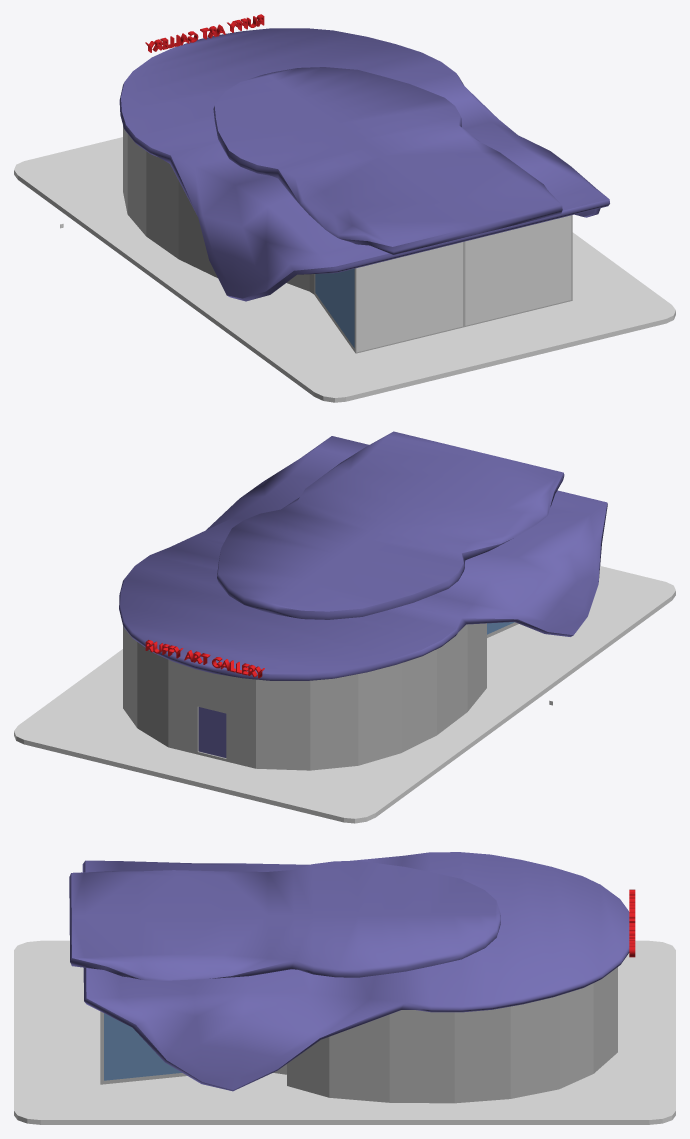
Rendered from Ruffy_art_gallery.fbx.
3 renders of one model, top to bottom at view 1: azimuth 30°, elevation 25°; view 2: azimuth 150°, elevation 25°; view 3: azimuth 270°, elevation 25°, orthographic. The views are drawn at different scales.
Parts seen in each view (by area): view 1: art_gallery.002, art_gallery.001, Plane, Art_gallery_outside, Text; view 2: art_gallery.002, art_gallery.001, Plane, Art_gallery_outside, Text; view 3: art_gallery.002, art_gallery.001, Plane, Art_gallery_outside, Text.
Part boxes in pixels (<box>): art_gallery.002: <box>119,28,609,301</box>; art_gallery.001: <box>213,67,562,254</box>; Plane: <box>14,137,675,402</box>; Art_gallery_outside: <box>123,126,572,353</box>; Text: <box>145,14,264,52</box>; art_gallery.002: <box>119,436,607,680</box>; art_gallery.001: <box>217,431,564,619</box>; Plane: <box>14,566,675,823</box>; Art_gallery_outside: <box>123,622,518,770</box>; Text: <box>145,640,264,678</box>; art_gallery.002: <box>82,852,629,1091</box>; art_gallery.001: <box>69,861,500,980</box>; Plane: <box>14,940,675,1124</box>; Art_gallery_outside: <box>100,967,617,1103</box>; Text: <box>629,889,635,957</box>.
Bounding box in the file's own units: 9510 × 2485 × 12483.
Materials: 3 (2 with a texture image).
